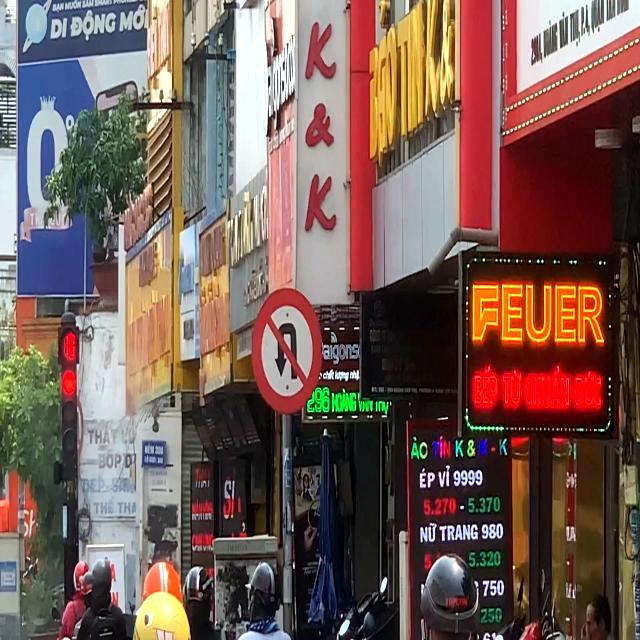Cam quay dau xe: (251, 286, 322, 416)
